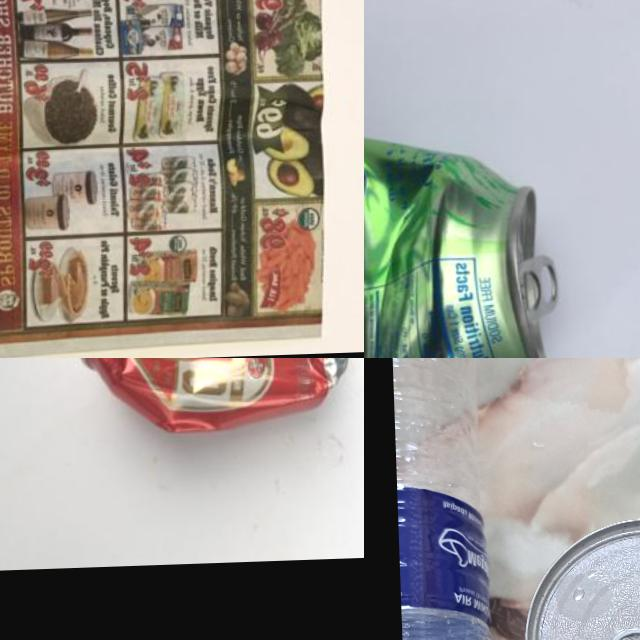aba de lata: (516, 257, 558, 321)
garrafa plástica: (390, 358, 495, 640)
lata: (364, 124, 563, 358), (73, 358, 355, 439)
papel: (0, 0, 339, 358)
